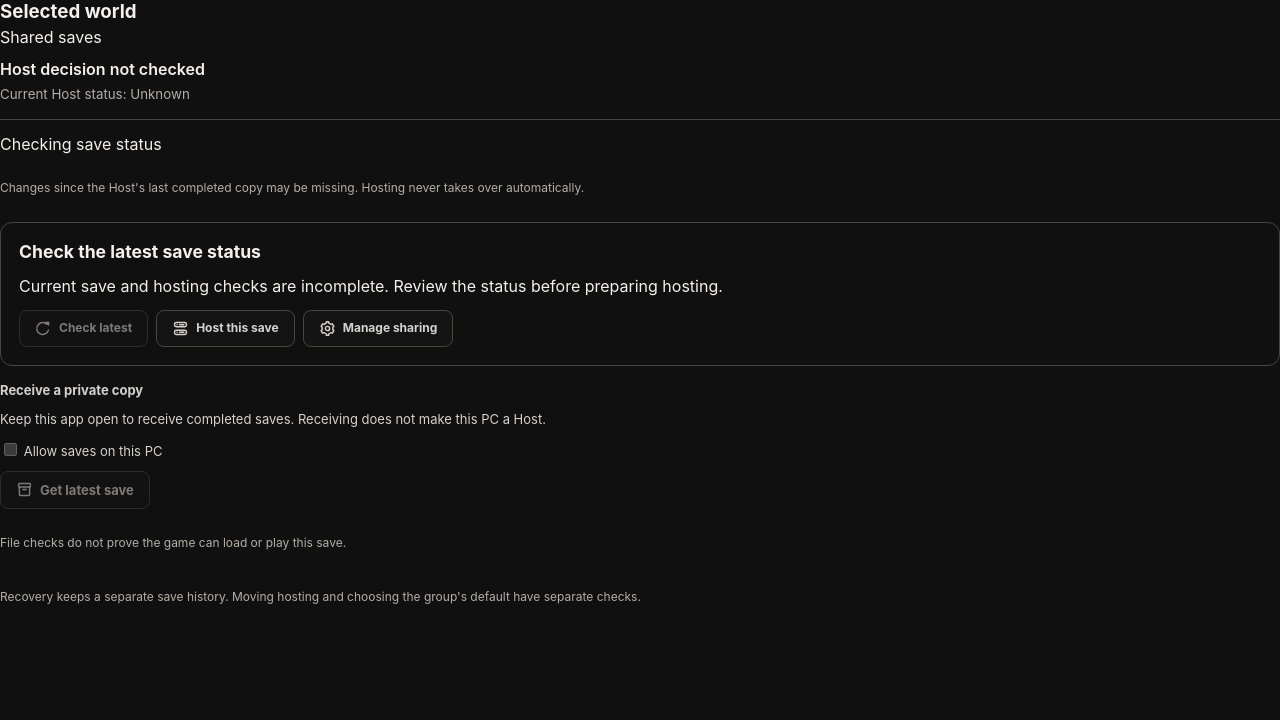
it: Shared saves controls › lets a voter review and confirm signed membership without enabling save receipt
Click the button "Manage sharing" at coordinates (378, 328), box [303,310,453,347]
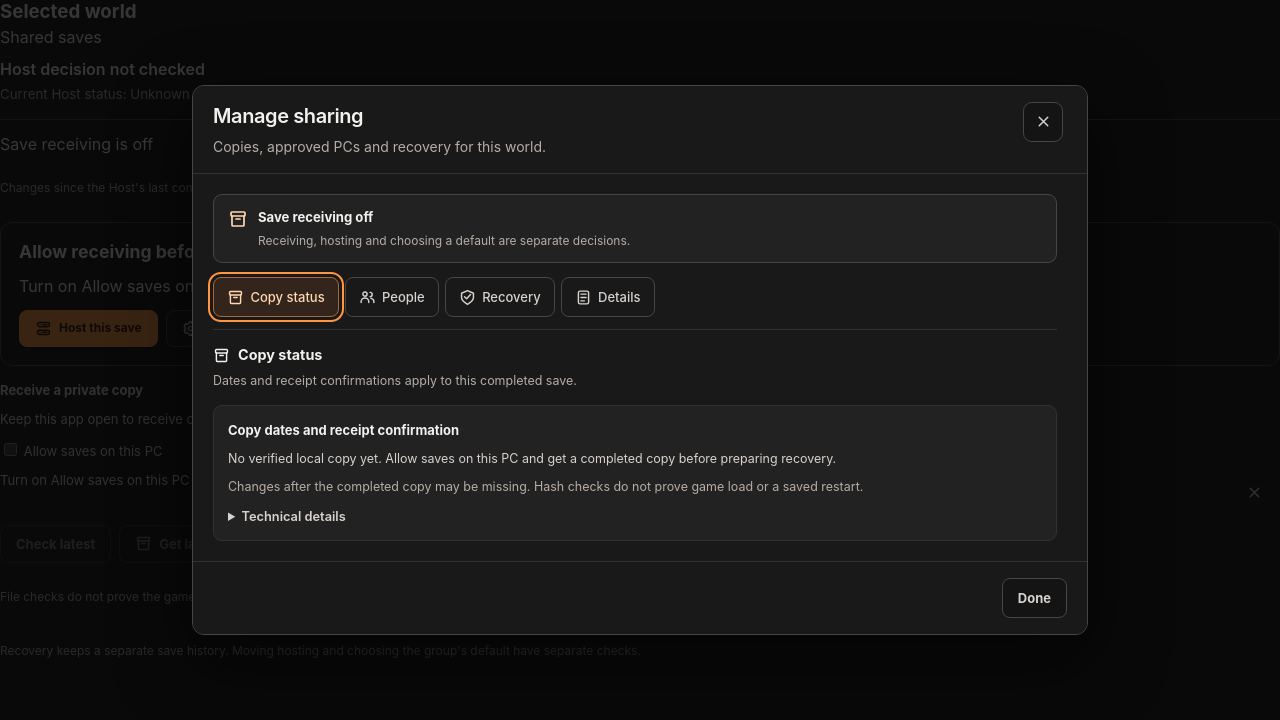
Click the button "Details" at coordinates (608, 298), box [561,278,654,318]
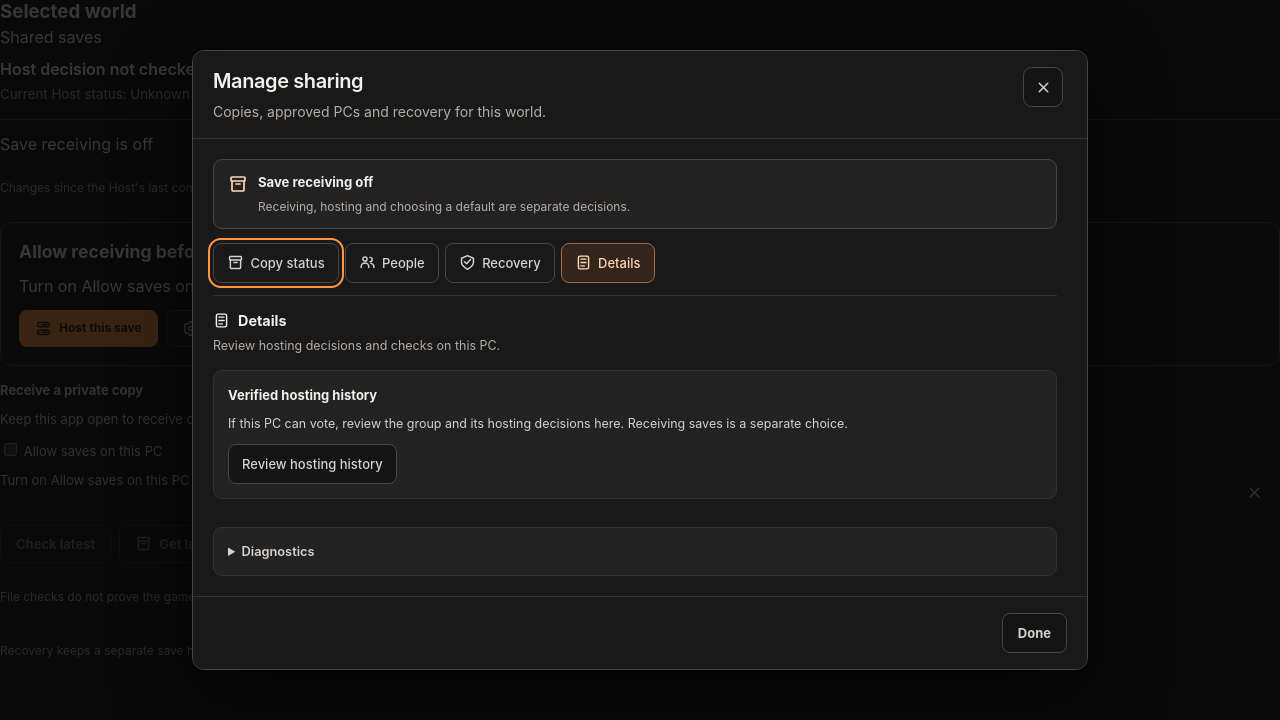
Click the button "Review hosting history" at coordinates (312, 464), box [228,444,397,484]
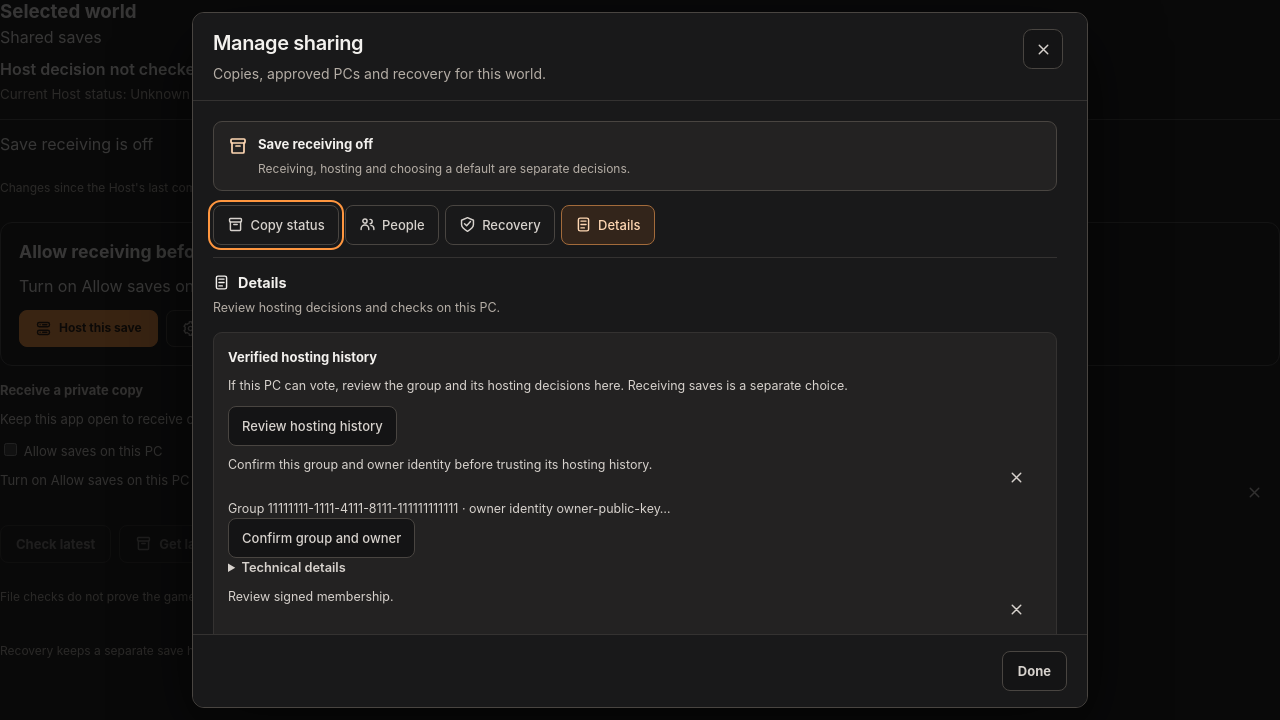
Result: the button "Confirm group and owner" is enabled
Click the button "Confirm group and owner" at coordinates (322, 538), box [228,518,415,558]
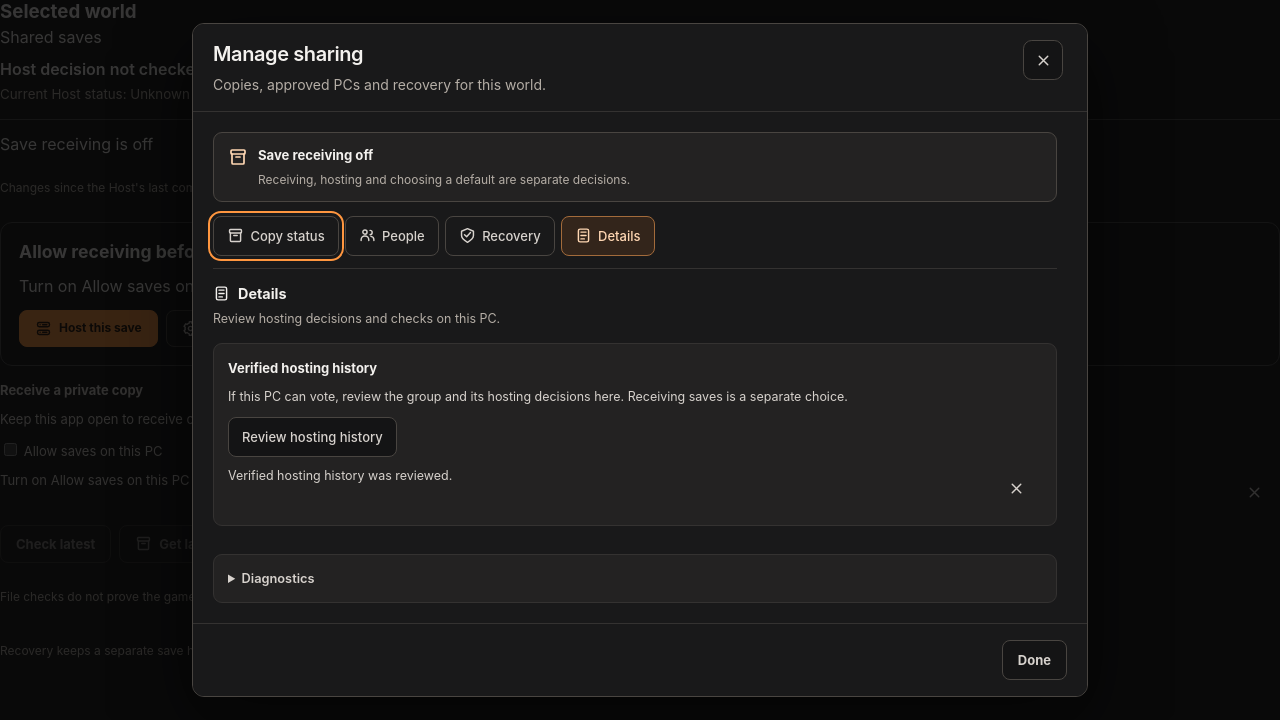
Expected: the button "Get latest save" is disabled, [119,525,269,563]
Result: the text "Verified hosting history was reviewed." is shown at [228,467,1042,511]
